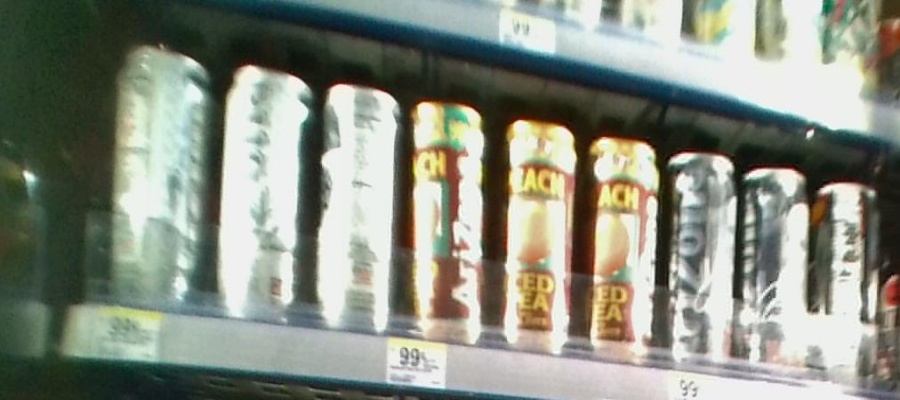bottle: (105, 31, 212, 316), (316, 59, 406, 337), (219, 62, 311, 321), (497, 93, 580, 361), (412, 79, 492, 345), (583, 104, 659, 366), (666, 112, 738, 364), (816, 152, 882, 386), (745, 147, 811, 376)
